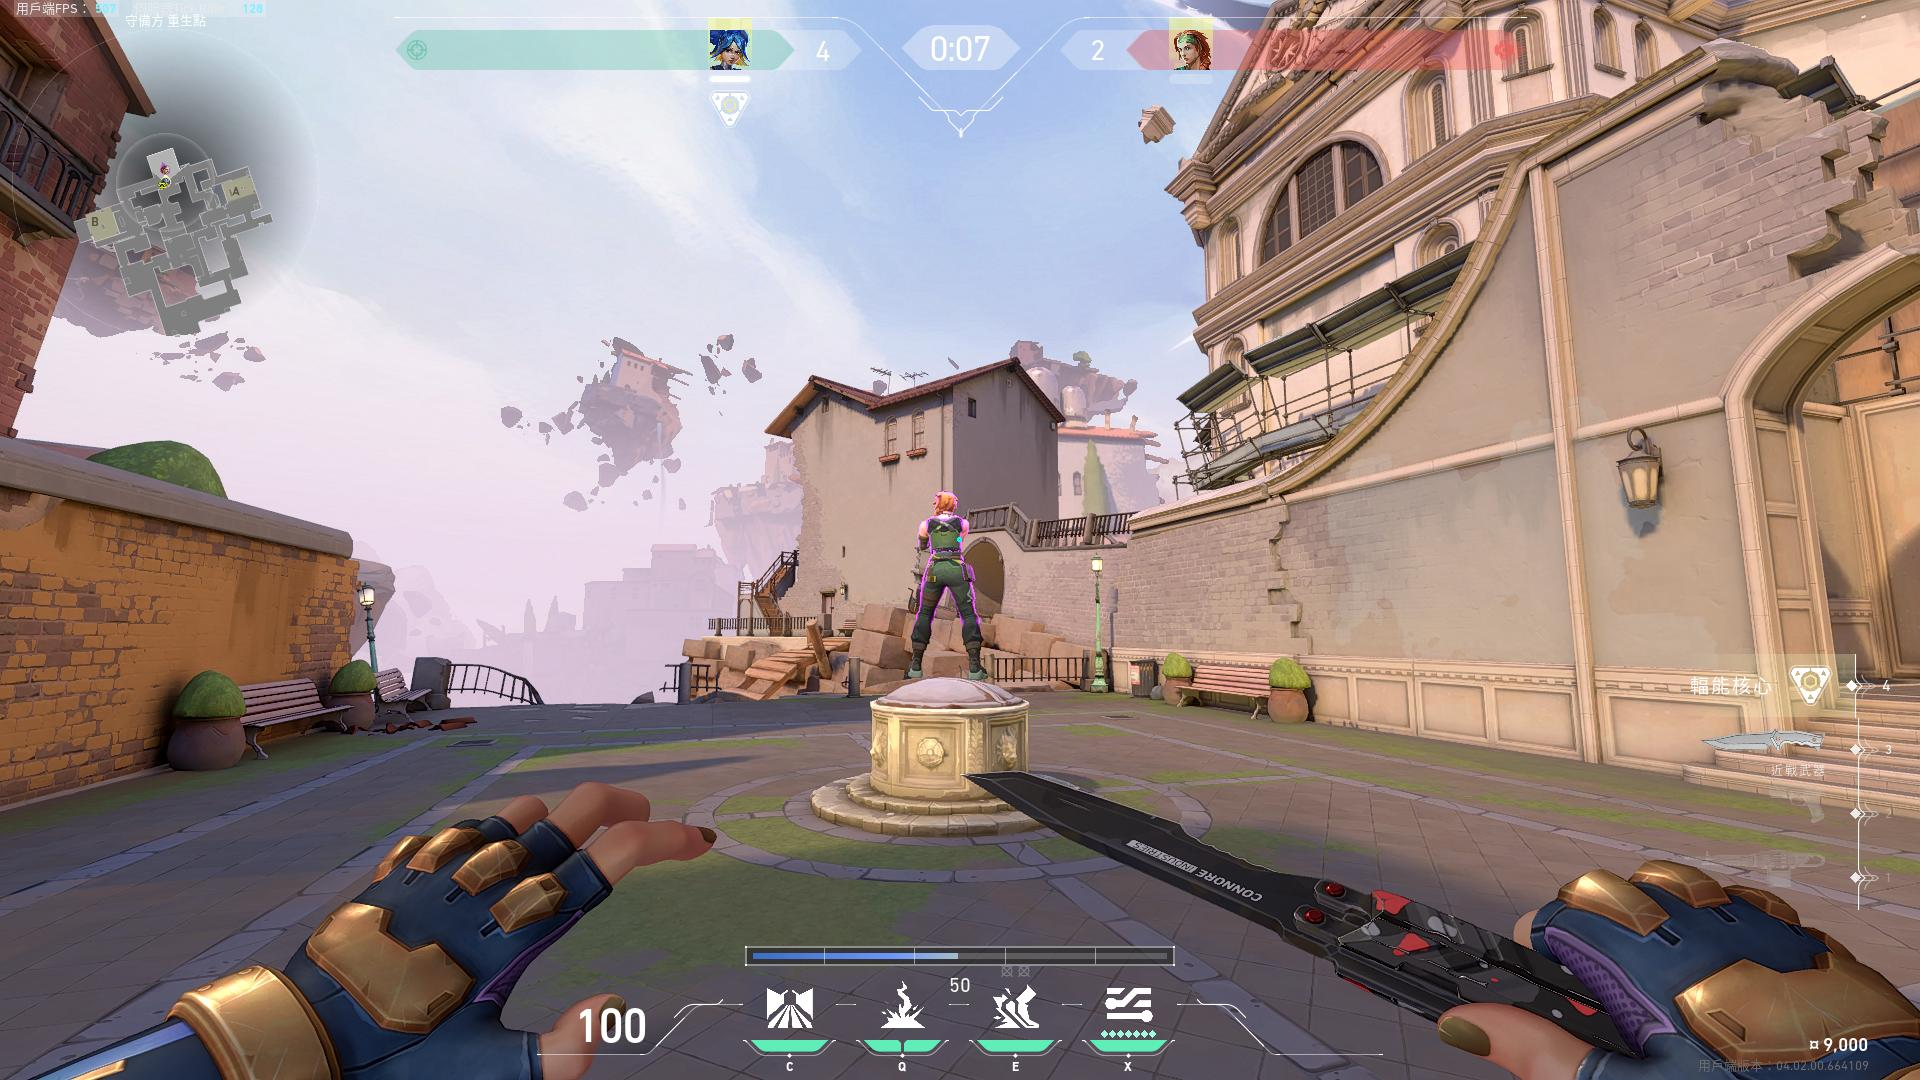enemyBody: (932, 518, 961, 555)
